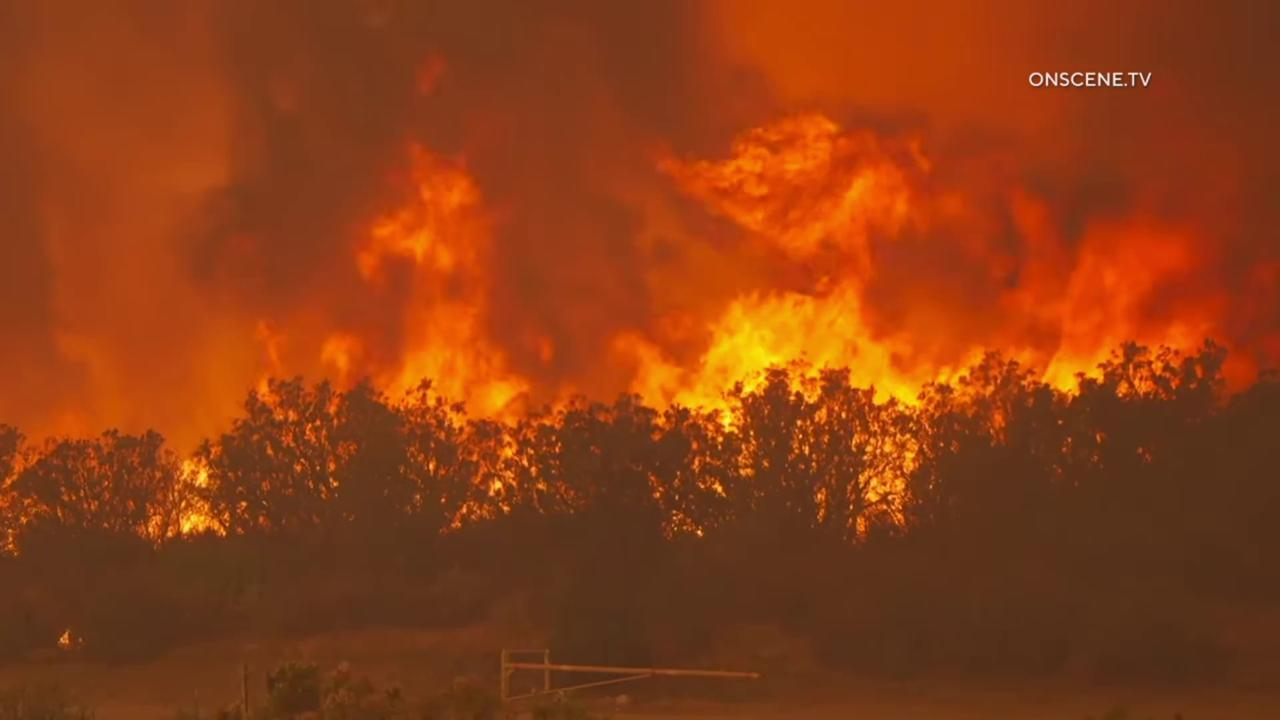fire: (617, 96, 1280, 552), (248, 125, 586, 535), (157, 455, 234, 542)
smoke: (0, 0, 1280, 720)
